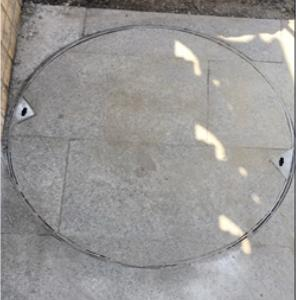wellcover: (1, 0, 296, 286)
